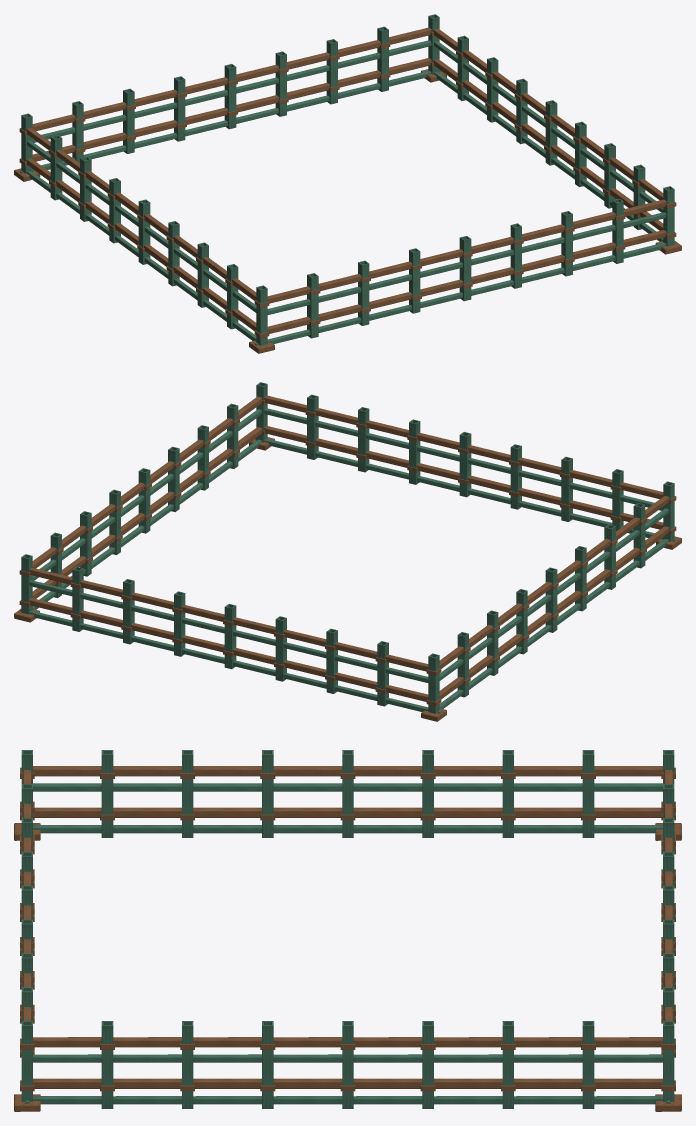
3 renders of one model, top to bottom at view 1: azimuth 30°, elevation 25°; view 2: azimuth 150°, elevation 25°; view 3: azimuth 270°, elevation 25°, orthographic. The views are drawn at different scales.
Parts seen in each view (by area): view 1: Tier 0 side 2 post 4, Tier 0 side 0 post 4, Tier 0 side 0 post 3, Tier 0 side 0 post 1, Tier 0 side 2 post 5, Tier 0 side 2 post 6, Tier 0 side 0 post 2, Tier 0 side 2 post 1, Tier 0 side 0 post 6, Tier 0 side 0 post 7, Tier 0 side 2 post 2, Tier 0 side 0 post 0 (+18 smaller); view 2: Tier 0 side 2 post 4, Tier 0 side 0 post 4, Tier 0 side 2 post 5, Tier 0 side 0 post 2, Tier 0 side 2 post 7, Tier 0 side 0 post 3, Tier 0 side 2 post 6, Tier 0 side 2 post 1, Tier 0 side 2 post 2, Tier 0 side 0 post 7, Tier 0 side 2 post 3, Tier 0 side 3 post 0 (+18 smaller); view 3: Tier 0 side 1 post 1, Tier 0 side 1 post 7, Tier 0 side 3 post 1, Tier 0 side 3 post 7, Tier 0 side 1 post 3, Tier 0 side 1 post 4, Tier 0 side 1 post 5, Tier 0 side 3 post 3, Tier 0 side 3 post 4, Tier 0 side 3 post 5, Tier 0 side 1 post 2, Tier 0 side 1 post 6 (+68 smaller).
Boxes of the visible parts, <box> form: Tier 0 side 2 post 4: <box>224,64,236,129</box>; Tier 0 side 0 post 4: <box>459,236,471,301</box>; Tier 0 side 0 post 3: <box>409,248,420,313</box>; Tier 0 side 0 post 1: <box>307,273,318,338</box>; Tier 0 side 2 post 5: <box>174,76,185,141</box>; Tier 0 side 2 post 6: <box>123,88,134,153</box>; Tier 0 side 0 post 2: <box>358,260,369,325</box>; Tier 0 side 2 post 1: <box>377,26,388,91</box>; Tier 0 side 0 post 6: <box>561,211,572,276</box>; Tier 0 side 0 post 7: <box>612,198,623,263</box>; Tier 0 side 2 post 2: <box>326,39,337,104</box>; Tier 0 side 0 post 0: <box>256,285,267,345</box>; Tier 0 side 2 post 4: <box>224,604,236,669</box>; Tier 0 side 0 post 4: <box>459,432,471,497</box>; Tier 0 side 2 post 5: <box>275,616,286,681</box>; Tier 0 side 0 post 2: <box>561,456,572,521</box>; Tier 0 side 2 post 7: <box>377,641,388,706</box>; Tier 0 side 0 post 3: <box>510,444,521,509</box>; Tier 0 side 2 post 6: <box>326,628,337,693</box>; Tier 0 side 2 post 1: <box>72,566,83,631</box>; Tier 0 side 2 post 2: <box>123,579,134,644</box>; Tier 0 side 0 post 7: <box>307,394,318,459</box>; Tier 0 side 2 post 3: <box>174,591,185,656</box>; Tier 0 side 3 post 0: <box>428,653,439,713</box>; Tier 0 side 1 post 1: <box>101,1021,113,1108</box>; Tier 0 side 1 post 7: <box>582,1021,594,1108</box>; Tier 0 side 3 post 1: <box>582,750,594,837</box>; Tier 0 side 3 post 7: <box>101,750,113,837</box>; Tier 0 side 1 post 3: <box>262,1021,273,1108</box>; Tier 0 side 1 post 4: <box>342,1021,353,1108</box>; Tier 0 side 1 post 5: <box>422,1021,433,1108</box>; Tier 0 side 3 post 3: <box>422,750,433,837</box>; Tier 0 side 3 post 4: <box>342,750,353,837</box>; Tier 0 side 3 post 5: <box>262,750,273,837</box>; Tier 0 side 1 post 2: <box>182,1021,193,1108</box>; Tier 0 side 1 post 6: <box>502,1021,513,1108</box>.
Size of the model in its own units: 3.75 by 0.5143 by 3.75.
2 materials, 2 textured.
